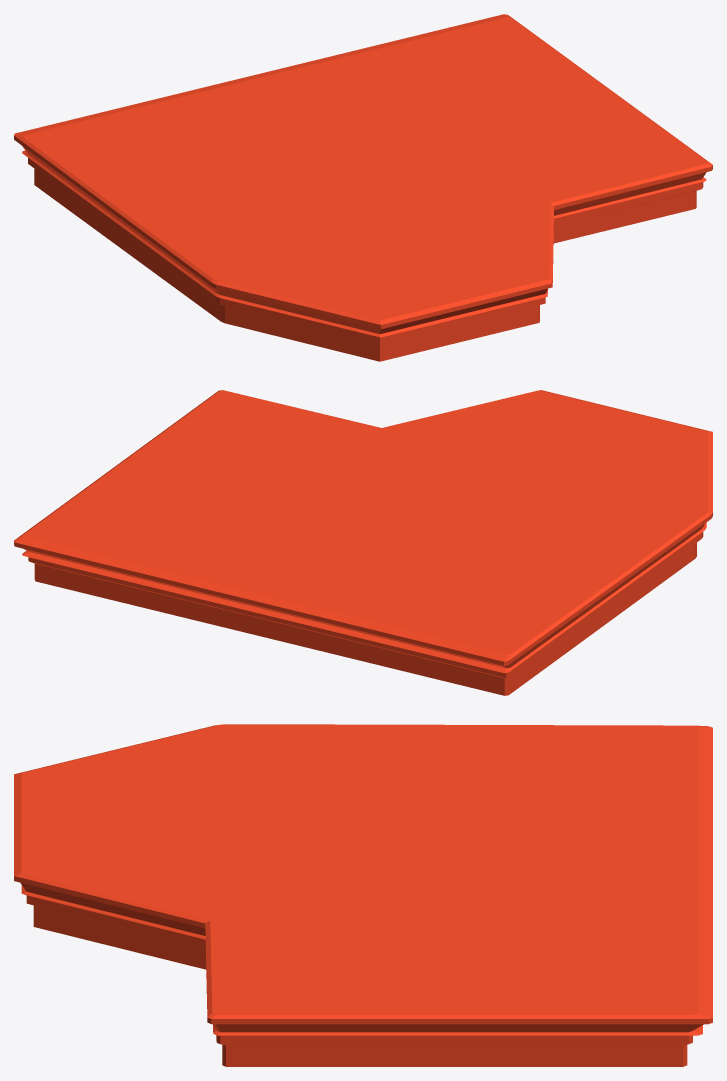
File: SM_Bayhouse_Roof_A_City.fbx
3 renders of one model, top to bottom at view 1: azimuth 30°, elevation 25°; view 2: azimuth 150°, elevation 25°; view 3: azimuth 270°, elevation 25°, orthographic. The views are drawn at different scales.
Parts seen in each view (by area): view 1: SM_Bayhouse_Roof_A_City; view 2: SM_Bayhouse_Roof_A_City; view 3: SM_Bayhouse_Roof_A_City.
Part boxes in pixels (x1,y1,x2,y2): SM_Bayhouse_Roof_A_City: (14, 14, 712, 361); SM_Bayhouse_Roof_A_City: (14, 390, 712, 695); SM_Bayhouse_Roof_A_City: (14, 724, 712, 1066).
Bounding box in the file's own units: 6.39 × 0.5688 × 6.42.
